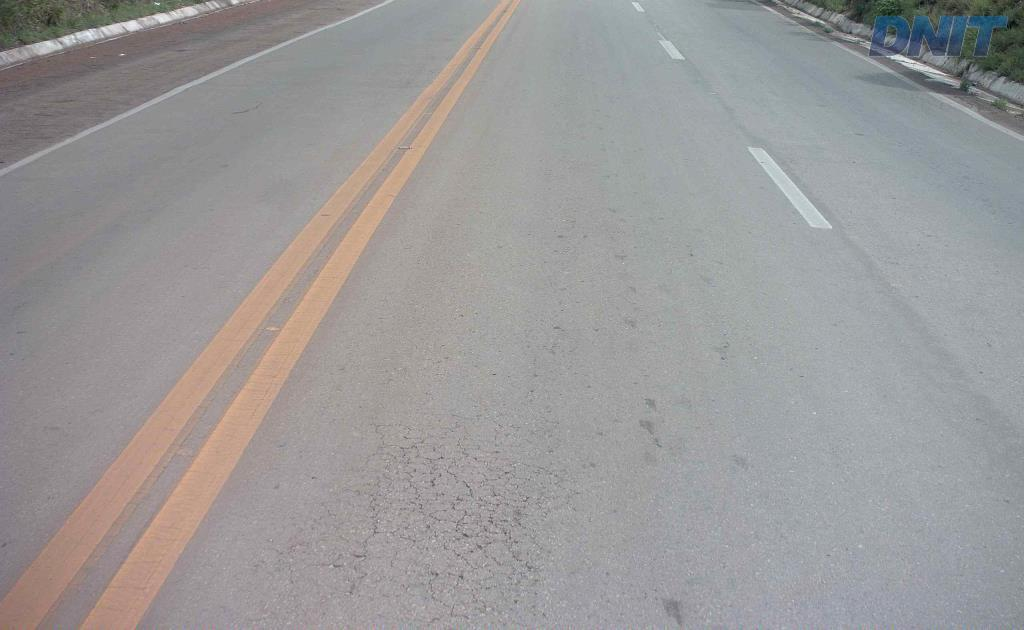crack: (475, 496, 522, 561)
